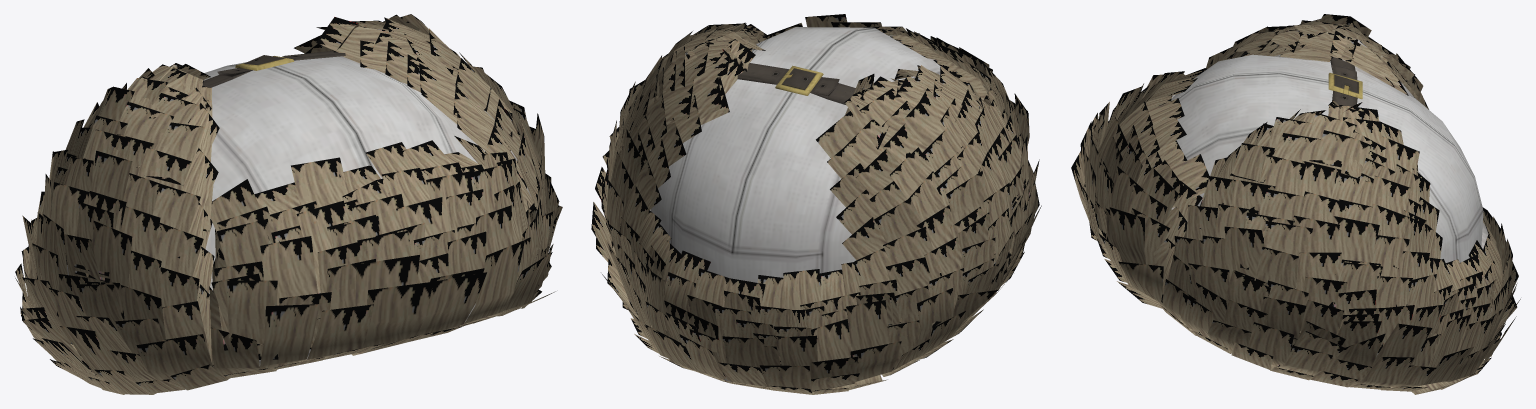
The model's file is p0_hdw0009_00_hdw00.gltf.
The picture shows the model from 3 angles, left to right: view 1: azimuth 30°, elevation 25°; view 2: azimuth 150°, elevation 25°; view 3: azimuth 270°, elevation 25°; orthographic projection. The views are drawn at different scales.
Visible parts, largest first — view 1: hdw00_hdw_obj_mesh_shape:cap_obj, hdw00_hdw_mesh_shape:cap; view 2: hdw00_hdw_obj_mesh_shape:cap_obj, hdw00_hdw_mesh_shape:cap; view 3: hdw00_hdw_obj_mesh_shape:cap_obj, hdw00_hdw_mesh_shape:cap.
Boxes of the visible parts, x1,y1,x2,y2 form: hdw00_hdw_obj_mesh_shape:cap_obj: (15,14,562,394); hdw00_hdw_mesh_shape:cap: (59,29,531,366); hdw00_hdw_obj_mesh_shape:cap_obj: (591,14,1041,394); hdw00_hdw_mesh_shape:cap: (650,27,999,381); hdw00_hdw_obj_mesh_shape:cap_obj: (1071,14,1520,394); hdw00_hdw_mesh_shape:cap: (1171,30,1491,356).
Size of what is drawn, in the model's own units: 0.3488 by 0.2307 by 0.3366.
2 materials, 2 textured.
